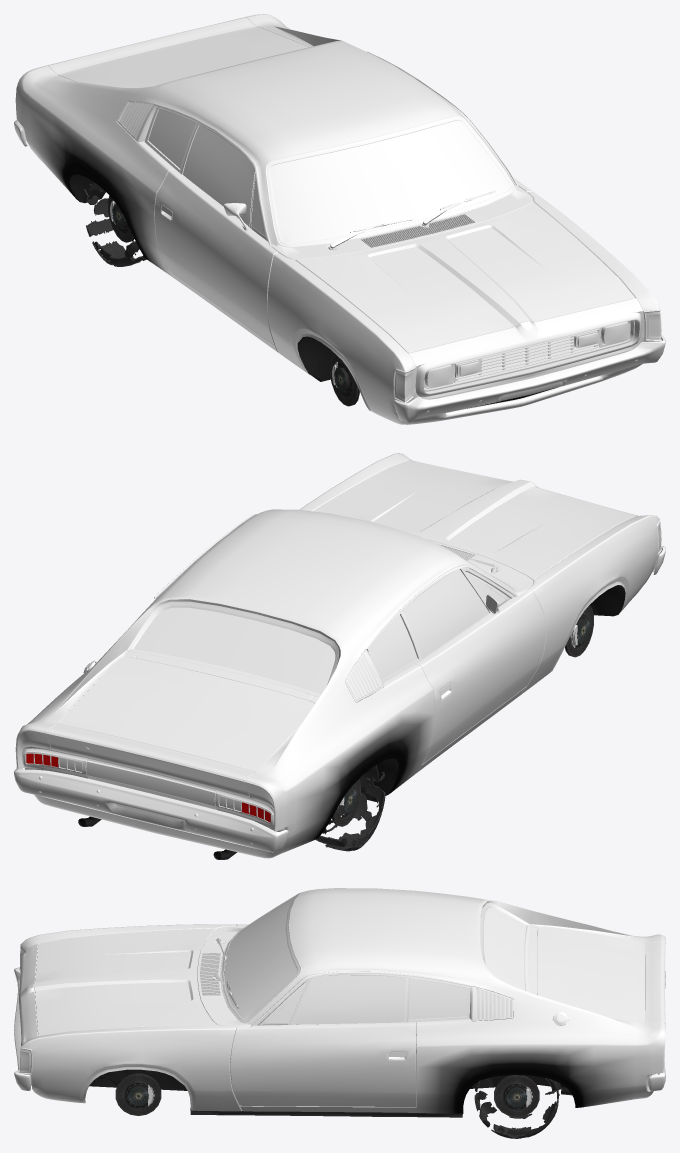
Rendered from 54_ValiantCharger.fbx.
3 views of the same model, one above another, from view 1: azimuth 30°, elevation 25°; view 2: azimuth 150°, elevation 25°; view 3: azimuth 270°, elevation 25° (orthographic). The views are drawn at different scales.
Visible parts, largest first — view 1: Body_Duco, Body_Kits_00, Body_Glass, Body_Chrome, Body_Matte, Undercarrage, Rotor; view 2: Body_Duco, Body_Kits_00, Body_Glass, Body_Chrome, Body_Matte, Undercarrage, Rotor (×2), BrakeLights; view 3: Body_Duco, Body_Kits_00, Body_Glass, Body_Chrome, Rotor (×2), Undercarrage, Body_Matte.
Part boxes in pixels (box(x1,y1,x2,y2)): Body_Duco: box(15, 14, 659, 424); Body_Kits_00: box(295, 202, 635, 353); Body_Glass: box(148, 109, 661, 400); Body_Chrome: box(14, 51, 665, 422); Body_Matte: box(145, 106, 599, 382); Undercarrage: box(69, 174, 558, 408); Rotor: box(330, 353, 359, 406); Body_Duco: box(17, 453, 661, 858); Body_Kits_00: box(313, 460, 635, 580); Body_Glass: box(59, 524, 661, 811); Body_Chrome: box(14, 514, 665, 852); Body_Matte: box(127, 509, 514, 697); Undercarrage: box(78, 585, 625, 859); Rotor (×2): box(332, 605, 593, 826); BrakeLights: box(26, 753, 270, 822); Body_Duco: box(18, 888, 664, 1113); Body_Kits_00: box(34, 928, 216, 1035); Body_Glass: box(20, 895, 526, 1072); Body_Chrome: box(14, 936, 665, 1091); Rotor (×2): box(115, 1073, 539, 1117); Undercarrage: box(85, 1069, 571, 1117); Body_Matte: box(220, 892, 530, 1025).
Size of what is drawn, in the model's own units: 1.9 by 1.31 by 4.59.
